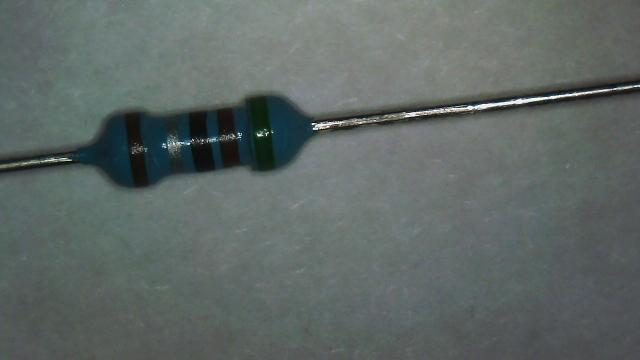black: (188, 112, 214, 172)
brown: (124, 112, 148, 186), (217, 108, 238, 166)
green: (248, 97, 274, 170)
resistor: (78, 93, 319, 193)
silver: (163, 116, 182, 173)
